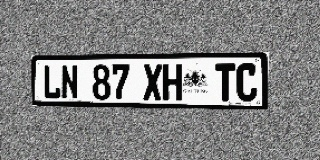7: (111, 64, 130, 100)
8: (92, 65, 111, 100)
C: (236, 63, 257, 102)
H: (163, 64, 182, 101)
L: (43, 65, 60, 99)
N: (61, 65, 78, 100)
T: (215, 64, 236, 101)
X: (143, 64, 162, 101)
